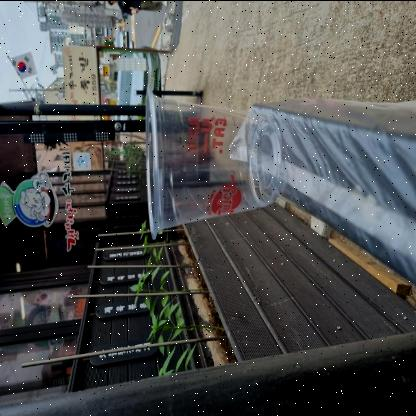Others: (141, 84, 287, 242)
